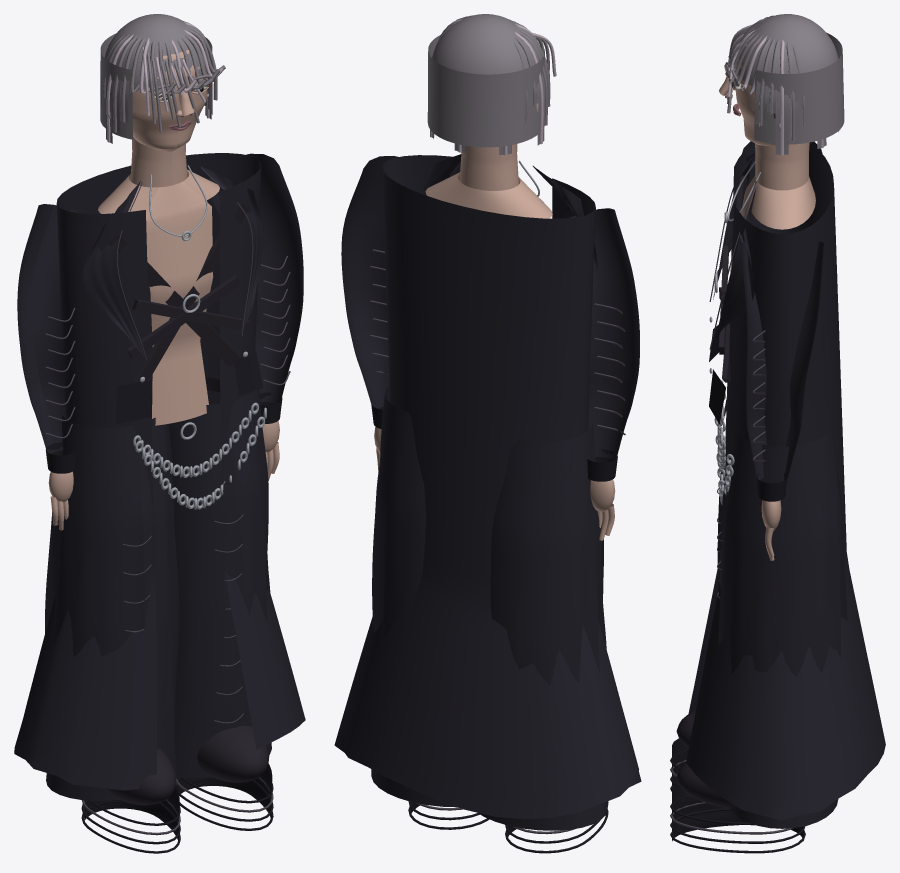
File: look-5-detail.glb
3 views of the same model, side by side, from view 1: azimuth 30°, elevation 25°; view 2: azimuth 150°, elevation 25°; view 3: azimuth 270°, elevation 25° (orthographic). The views are drawn at different scales.
Visible parts, largest first — view 1: look-5-detail, leg-1, leg-0, arm-0, arm-1; view 2: look-5-detail, leg-0, arm-0, leg-1, arm-1; view 3: look-5-detail, leg-1, arm-1, leg-0.
Boxes of the visible parts, x1,y1,x2,y2 form: look-5-detail: (14,14,305,790); leg-1: (151,389,273,830); leg-0: (45,391,180,853); arm-0: (17,204,83,530); arm-1: (208,153,303,480); look-5-detail: (334,14,641,819); leg-0: (478,423,608,853); arm-0: (568,208,639,540); leg-1: (371,386,489,829); arm-1: (341,156,437,471); look-5-detail: (686,14,885,820); leg-1: (670,426,847,853); arm-1: (740,241,823,560); leg-0: (670,454,725,791).
Size of the model in its own units: 0.7547 by 2.04 by 0.4997.
